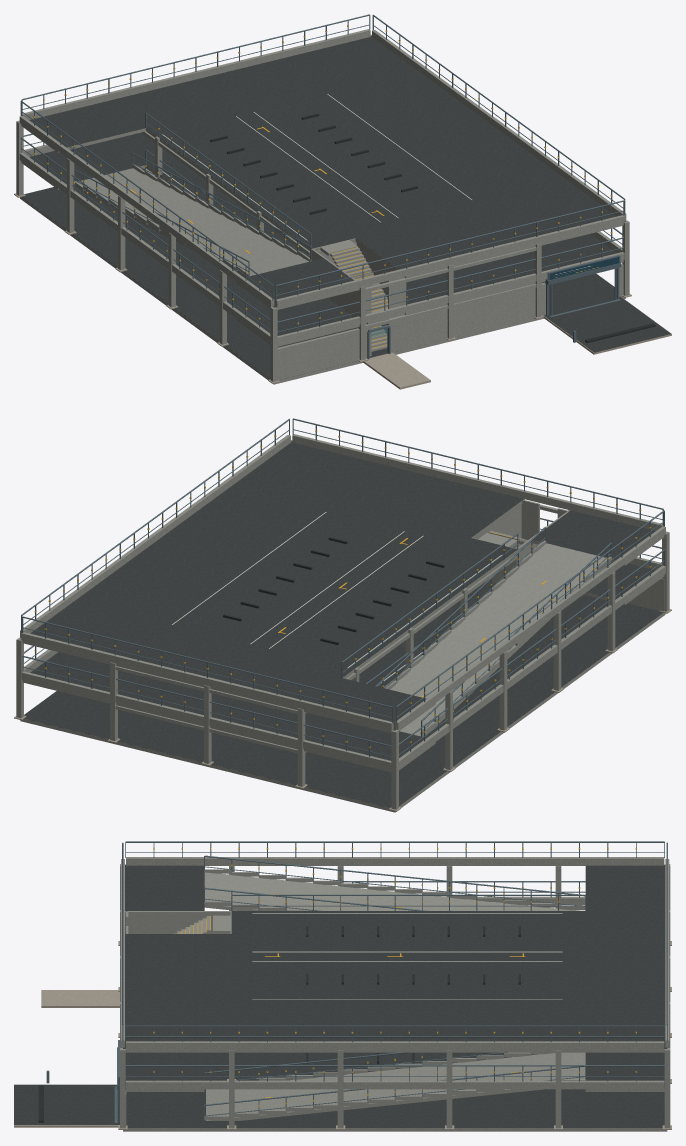
3 views of the same model, one above another, from view 1: azimuth 30°, elevation 25°; view 2: azimuth 150°, elevation 25°; view 3: azimuth 270°, elevation 25° (orthographic). The views are drawn at different scales.
Visible parts, largest first — view 1: VIS_Surfaces_Level2_CentralWear, VIS_Surfaces_RoofEastWear, VIS_Structure_OuterSpandrels, VIS_Surfaces_GroundWear, VIS_Facade_FrontWallVolumes, VIS_Ramp_B_NorthToSouth, VIS_Structure_Columns, VIS_Surfaces_Level2_SouthWear, VIS_Exterior_DriveSurface, VIS_Surfaces_Level2_WestApronWear0, VIS_Surfaces_Level1_CentralWear, VIS_Structure_BeamSoffits (+23 smaller); view 2: VIS_Surfaces_Level2_CentralWear, VIS_Surfaces_RoofEastWear, VIS_Surfaces_GroundWear, VIS_Structure_OuterSpandrels, VIS_Ramp_B_NorthToSouth, VIS_Surfaces_Level2_SouthWear, VIS_Structure_Columns, VIS_Surfaces_Level1_CentralWear, VIS_Surfaces_Level2_WestApronWear1, VIS_Structure_BeamSoffits, VIS_Surfaces_Level2_WestApronWear0, VIS_Structure_GroundSlab (+18 smaller); view 3: VIS_Surfaces_Level2_CentralWear, VIS_Surfaces_RoofEastWear, VIS_Surfaces_GroundWear, VIS_Structure_OuterSpandrels, VIS_Ramp_A_SouthToNorth, VIS_Surfaces_Level2_SouthWear, VIS_Ramp_B_NorthToSouth, VIS_Structure_Columns, VIS_Exterior_DriveSurface, VIS_Surfaces_Level2_WestApronWear0, VIS_Surfaces_Level2_WestApronWear1, VIS_Surfaces_Level1_EastWear1 (+21 smaller).
Boxes of the visible parts, x1=… form: VIS_Surfaces_Level2_CentralWear: x1=109, y1=58, x2=486, y2=248; VIS_Surfaces_RoofEastWear: x1=285, y1=35, x2=625, y2=237; VIS_Structure_OuterSpandrels: x1=19, y1=29, x2=626, y2=344; VIS_Surfaces_GroundWear: x1=22, y1=175, x2=614, y2=378; VIS_Facade_FrontWallVolumes: x1=277, y1=264, x2=623, y2=379; VIS_Ramp_B_NorthToSouth: x1=74, y1=168, x2=308, y2=277; VIS_Structure_Columns: x1=16, y1=34, x2=629, y2=381; VIS_Surfaces_Level2_SouthWear: x1=355, y1=206, x2=529, y2=269; VIS_Exterior_DriveSurface: x1=544, y1=296, x2=670, y2=352; VIS_Surfaces_Level2_WestApronWear0: x1=29, y1=101, x2=145, y2=147; VIS_Surfaces_Level1_CentralWear: x1=112, y1=132, x2=309, y2=257; VIS_Structure_BeamSoffits: x1=141, y1=131, x2=536, y2=328; VIS_Surfaces_Level2_CentralWear: x1=122, y1=503, x2=517, y2=701; VIS_Surfaces_RoofEastWear: x1=20, y1=441, x2=382, y2=655; VIS_Surfaces_GroundWear: x1=24, y1=595, x2=662, y2=807; VIS_Structure_OuterSpandrels: x1=20, y1=434, x2=665, y2=769; VIS_Ramp_B_NorthToSouth: x1=390, y1=543, x2=610, y2=736; VIS_Surfaces_Level2_SouthWear: x1=331, y1=464, x2=523, y2=537; VIS_Structure_Columns: x1=16, y1=440, x2=669, y2=809; VIS_Surfaces_Level1_CentralWear: x1=122, y1=581, x2=495, y2=740; VIS_Surfaces_Level2_WestApronWear1: x1=533, y1=510, x2=655, y2=559; VIS_Structure_BeamSoffits: x1=115, y1=504, x2=557, y2=753; VIS_Surfaces_Level2_WestApronWear0: x1=310, y1=678, x2=426, y2=730; VIS_Structure_GroundSlab: x1=20, y1=613, x2=665, y2=812; VIS_Surfaces_Level2_CentralWear: x1=231, y1=911, x2=665, y2=1002; VIS_Surfaces_RoofEastWear: x1=123, y1=1003, x2=667, y2=1048; VIS_Surfaces_GroundWear: x1=126, y1=1052, x2=664, y2=1127; VIS_Structure_OuterSpandrels: x1=121, y1=857, x2=669, y2=1089; VIS_Ramp_A_SouthToNorth: x1=206, y1=1052, x2=585, y2=1120; VIS_Surfaces_Level2_SouthWear: x1=125, y1=934, x2=231, y2=1002; VIS_Ramp_B_NorthToSouth: x1=204, y1=872, x2=579, y2=910; VIS_Structure_Columns: x1=120, y1=864, x2=670, y2=1128; VIS_Exterior_DriveSurface: x1=14, y1=1084, x2=119, y2=1124; VIS_Surfaces_Level2_WestApronWear0: x1=585, y1=865, x2=665, y2=910; VIS_Surfaces_Level2_WestApronWear1: x1=125, y1=865, x2=204, y2=910; VIS_Surfaces_Level1_EastWear1: x1=125, y1=1052, x2=204, y2=1088.
Bounding box in the file's own units: 32.68 × 8.59 × 48.34.
Materials: 10 (10 with a texture image).
